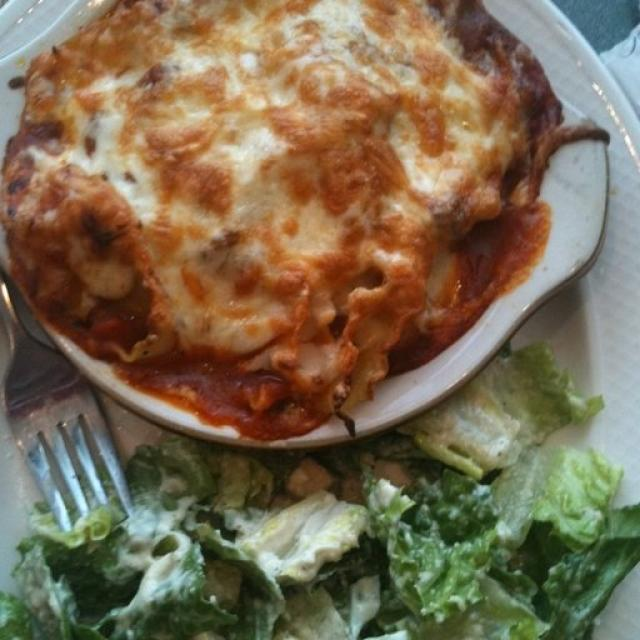Lasagna: (12, 2, 620, 407)
